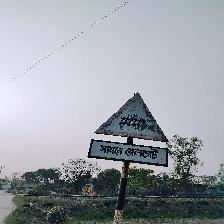Rail-crossing: (90, 93, 170, 166)
